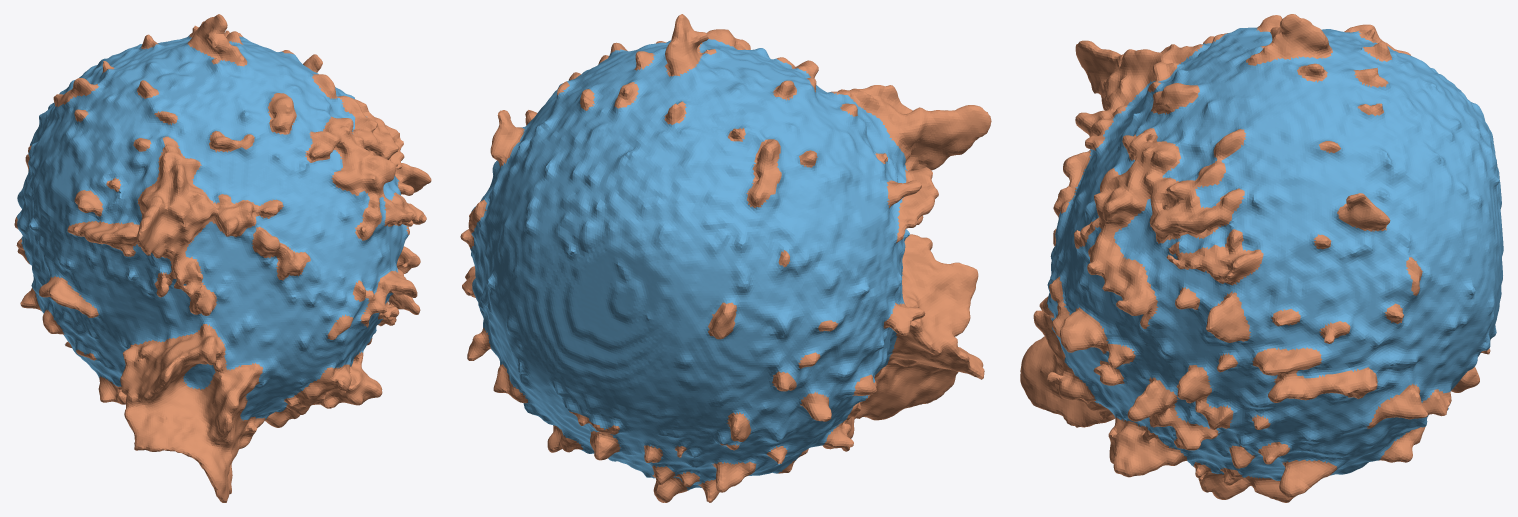
The picture shows the model from 3 angles, left to right: view 1: azimuth 30°, elevation 25°; view 2: azimuth 150°, elevation 25°; view 3: azimuth 270°, elevation 25°; orthographic projection. The views are drawn at different scales.
Bounding box in the file's own units: 145 × 151 × 141.
